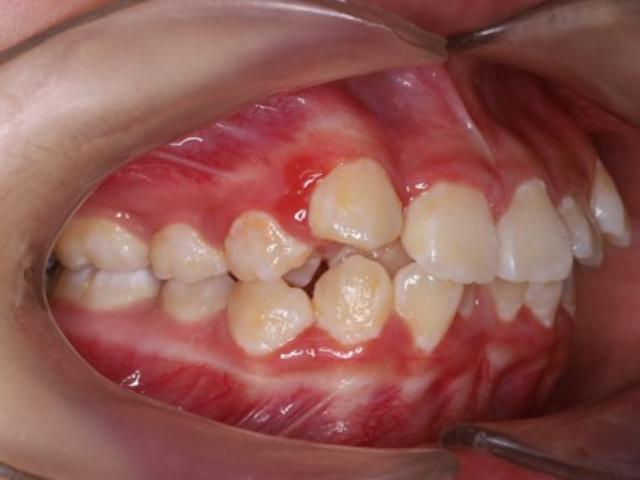canine class II 3/4: (226, 144, 408, 362)
molar class II 1/2: (48, 214, 162, 328)
